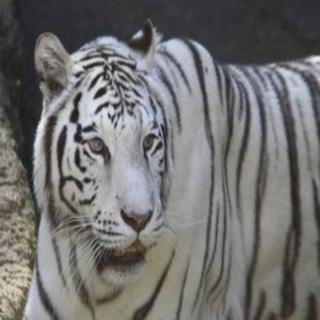Tiger: (16, 12, 320, 320)
